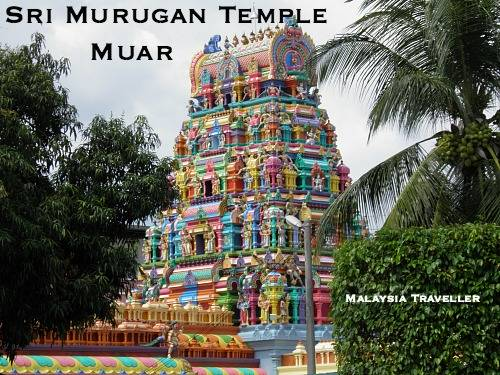Hindu Temple: (118, 30, 367, 348)
